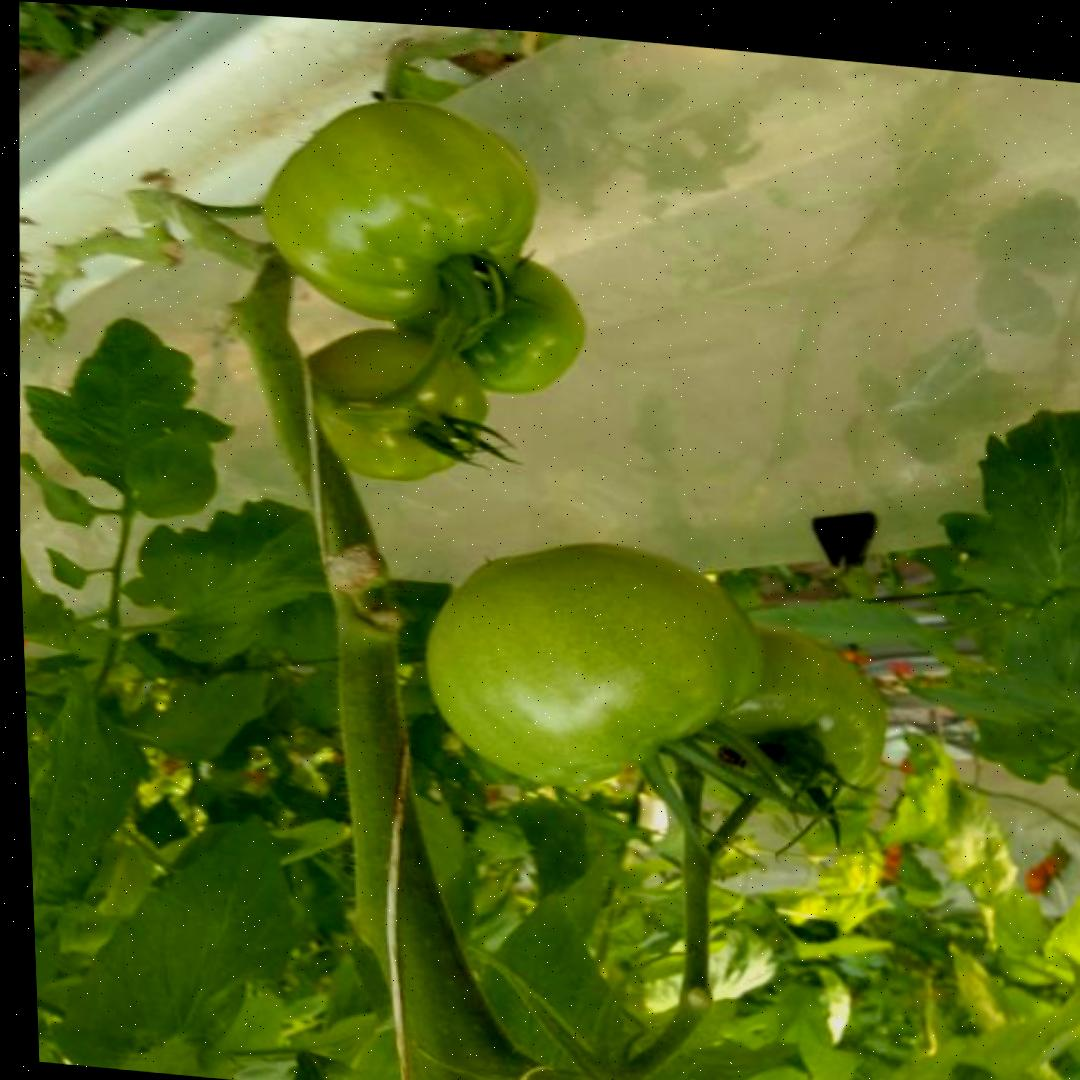mentah: (414, 520, 773, 805), (250, 83, 551, 339), (283, 314, 497, 491)
